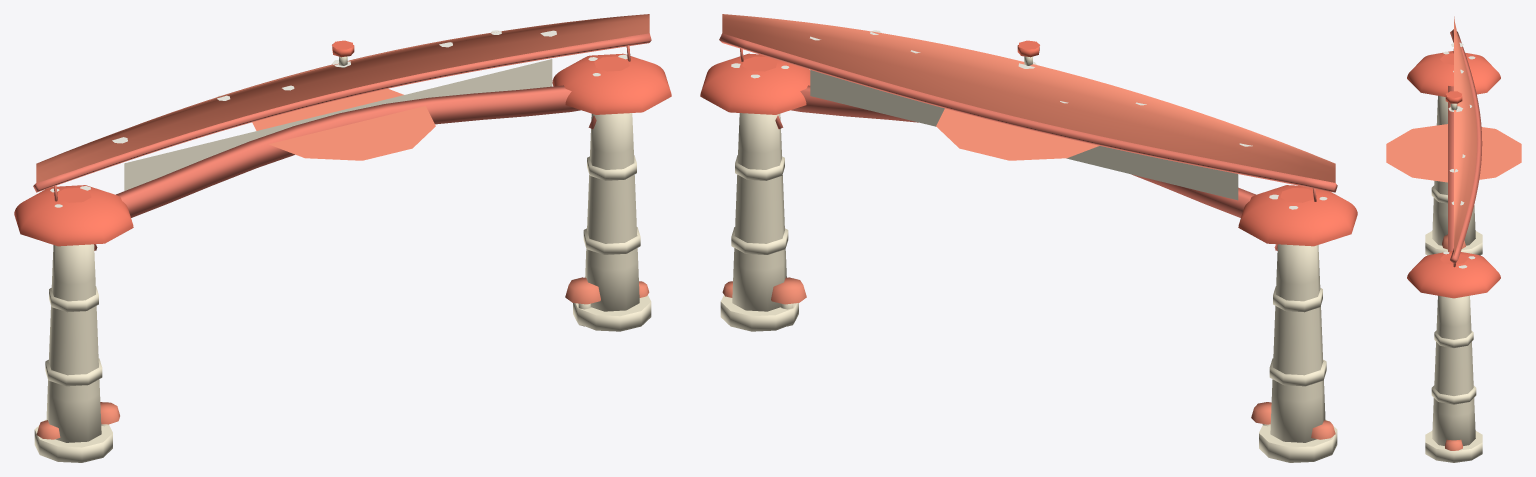
File: gate_r43_backup.glb
3 renders of one model, left to right at view 1: azimuth 30°, elevation 25°; view 2: azimuth 150°, elevation 25°; view 3: azimuth 270°, elevation 25°, orthographic. The views are drawn at different scales.
Parts seen in each view (by area): view 1: RoofPaint_Geometry, PillarPaint_Geometry, ArchPaint_Geometry, CapPaint_Geometry, BannerPaint_Geometry, ShroomPaint_Geometry; view 2: RoofPaint_Geometry, PillarPaint_Geometry, CapPaint_Geometry, ArchPaint_Geometry, BannerPaint_Geometry, ShroomPaint_Geometry; view 3: PillarPaint_Geometry, RoofPaint_Geometry, CapPaint_Geometry, ArchPaint_Geometry, ShroomPaint_Geometry, DotPaint_Geometry.
Boxes of the visible parts, x1,y1,x2,y2 form: RoofPaint_Geometry: (36, 14, 649, 182); PillarPaint_Geometry: (34, 56, 651, 462); ArchPaint_Geometry: (33, 33, 651, 250); CapPaint_Geometry: (14, 40, 671, 246); BannerPaint_Geometry: (124, 59, 552, 190); ShroomPaint_Geometry: (36, 277, 649, 439); RoofPaint_Geometry: (722, 14, 1335, 182); PillarPaint_Geometry: (720, 56, 1337, 462); CapPaint_Geometry: (700, 40, 1357, 246); ArchPaint_Geometry: (719, 33, 1337, 250); BannerPaint_Geometry: (810, 70, 1238, 200); ShroomPaint_Geometry: (722, 277, 1335, 439); PillarPaint_Geometry: (1425, 96, 1482, 462); RoofPaint_Geometry: (1386, 16, 1521, 255); CapPaint_Geometry: (1407, 51, 1500, 298); ArchPaint_Geometry: (1448, 29, 1482, 267); ShroomPaint_Geometry: (1442, 234, 1465, 450); DotPaint_Geometry: (1443, 42, 1475, 268).
Bounding box in the file's own units: 22.3 × 11.14 × 5.33.
